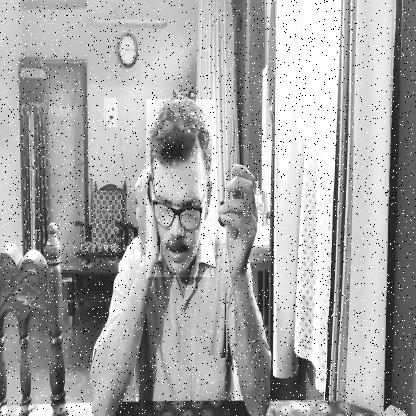Normal: (146, 99, 214, 277)
